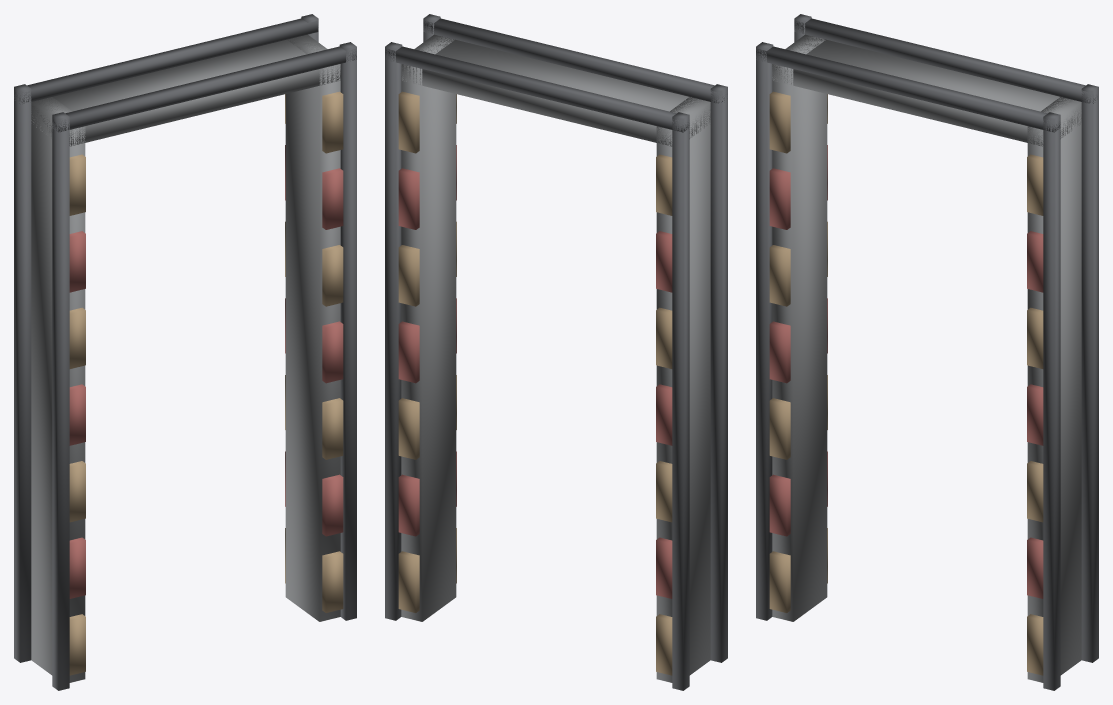
The model's file is doorway_brick_return_w96_h210_d24.glb.
3 views of the same model, side by side, from view 1: azimuth 30°, elevation 25°; view 2: azimuth 150°, elevation 25°; view 3: azimuth 330°, elevation 25° (orthographic).
Visible parts, largest first — view 1: world; view 2: world; view 3: world.
Boxes of the visible parts, <box> form: world: <box>14,14,356,690</box>; world: <box>385,14,727,690</box>; world: <box>756,14,1098,690</box>.
Bounding box in the file's own units: 1.22 × 2.24 × 0.3165.
